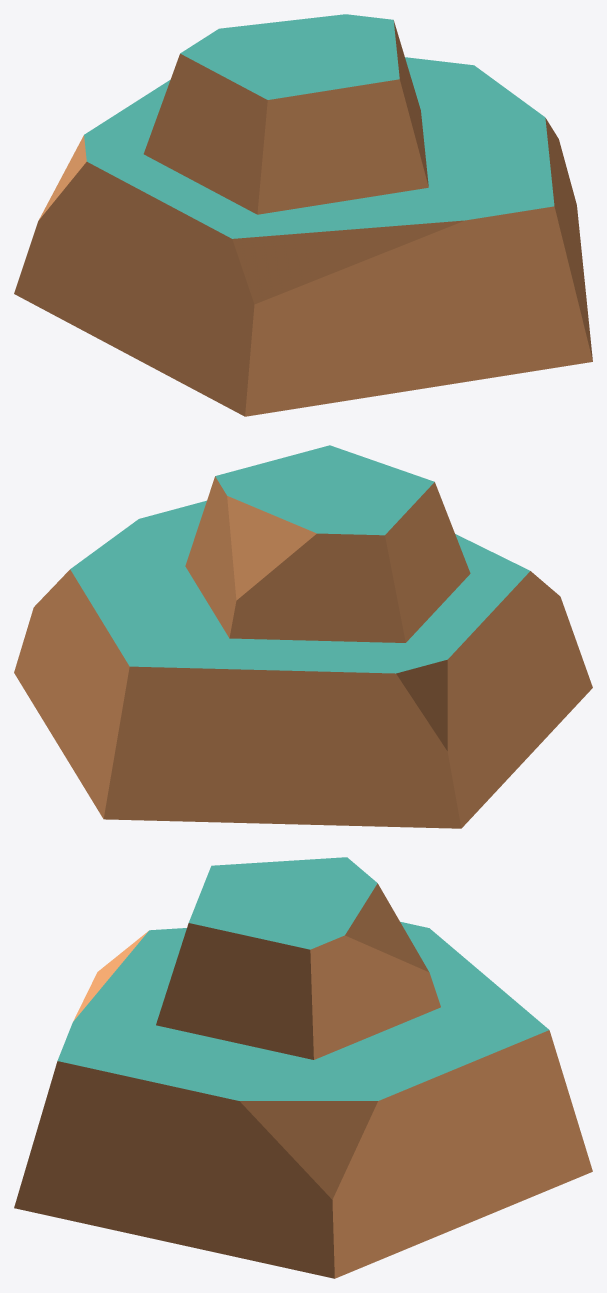
The model's file is rock_smallTop1.obj.
3 views of the same model, one above another, from view 1: azimuth 30°, elevation 25°; view 2: azimuth 150°, elevation 25°; view 3: azimuth 270°, elevation 25° (orthographic). The views are drawn at different scales.
Parts seen in each view (by area): view 1: rock_smallTop1; view 2: rock_smallTop1; view 3: rock_smallTop1.
Part boxes in pixels (bbox=[...]): rock_smallTop1: bbox=[14, 14, 592, 416]; rock_smallTop1: bbox=[14, 445, 592, 828]; rock_smallTop1: bbox=[14, 857, 592, 1278].
Size of the model in its own units: 4.88 by 2.2 by 4.89.
